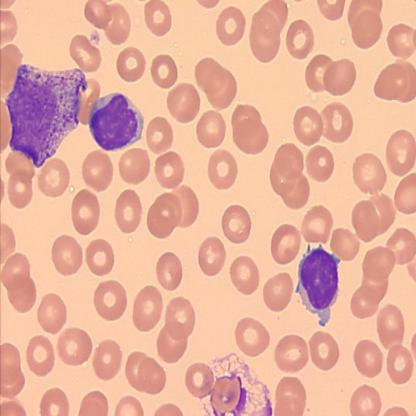Myelocyte: (6, 59, 89, 170)
